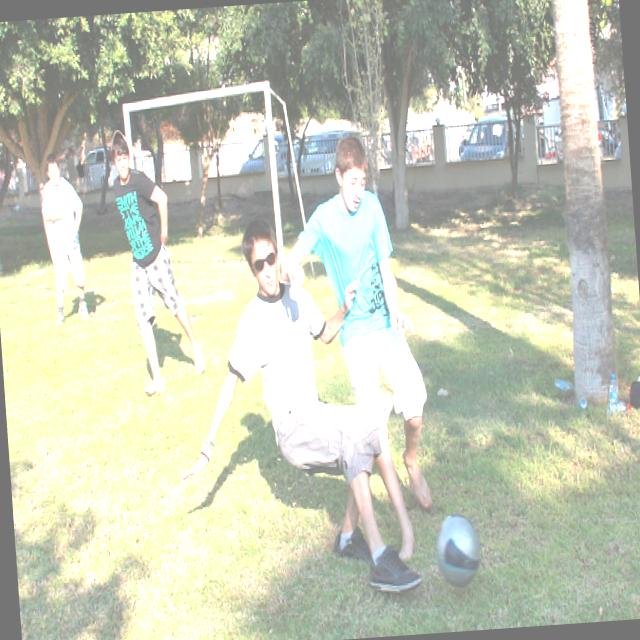Vehicle: (297, 127, 369, 177), (456, 114, 509, 161), (458, 115, 510, 161), (238, 132, 288, 174), (609, 108, 629, 159), (80, 148, 106, 164)
